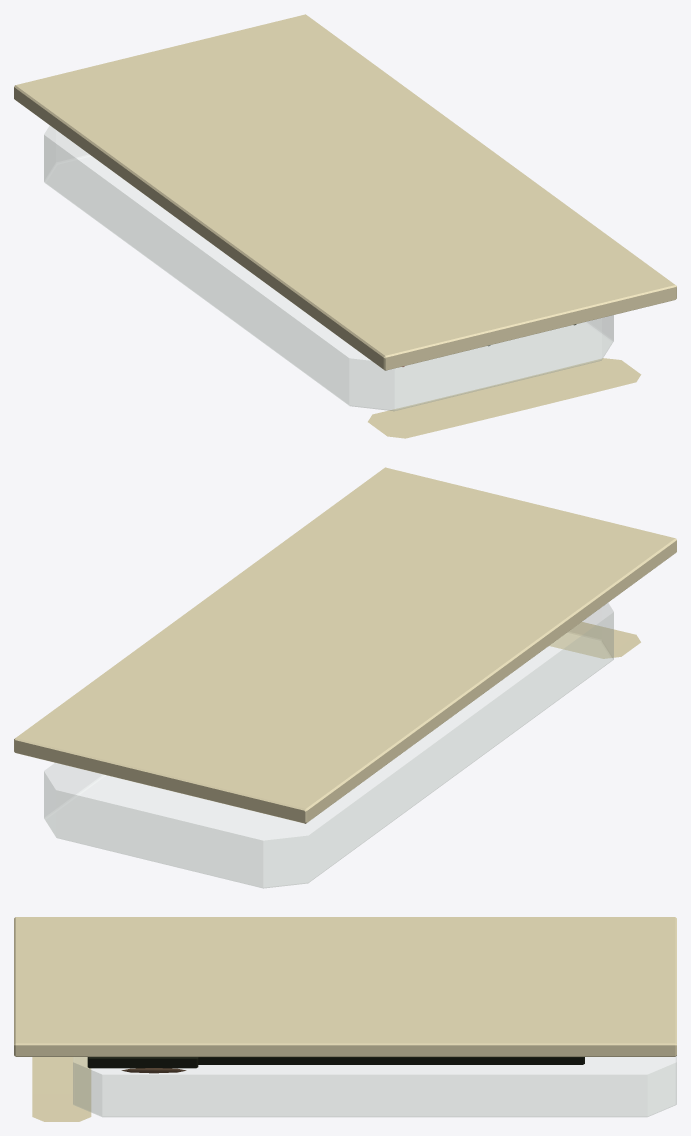
The model's file is pens.glb.
3 renders of one model, top to bottom at view 1: azimuth 30°, elevation 25°; view 2: azimuth 150°, elevation 25°; view 3: azimuth 270°, elevation 25°, orthographic. The views are drawn at different scales.
Parts seen in each view (by area): view 1: pens; view 2: pens; view 3: pens.
Part boxes in pixels (x1,y1,x2,y2): pens: (14, 14, 676, 438); pens: (14, 467, 676, 888); pens: (14, 917, 676, 1121).
Size of the model in its own units: 0.082 by 0.026 by 0.18.
